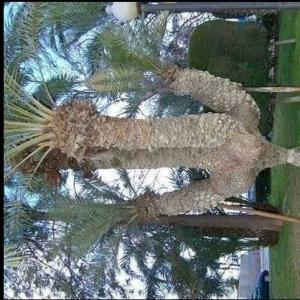palm tree: (3, 2, 299, 299)
